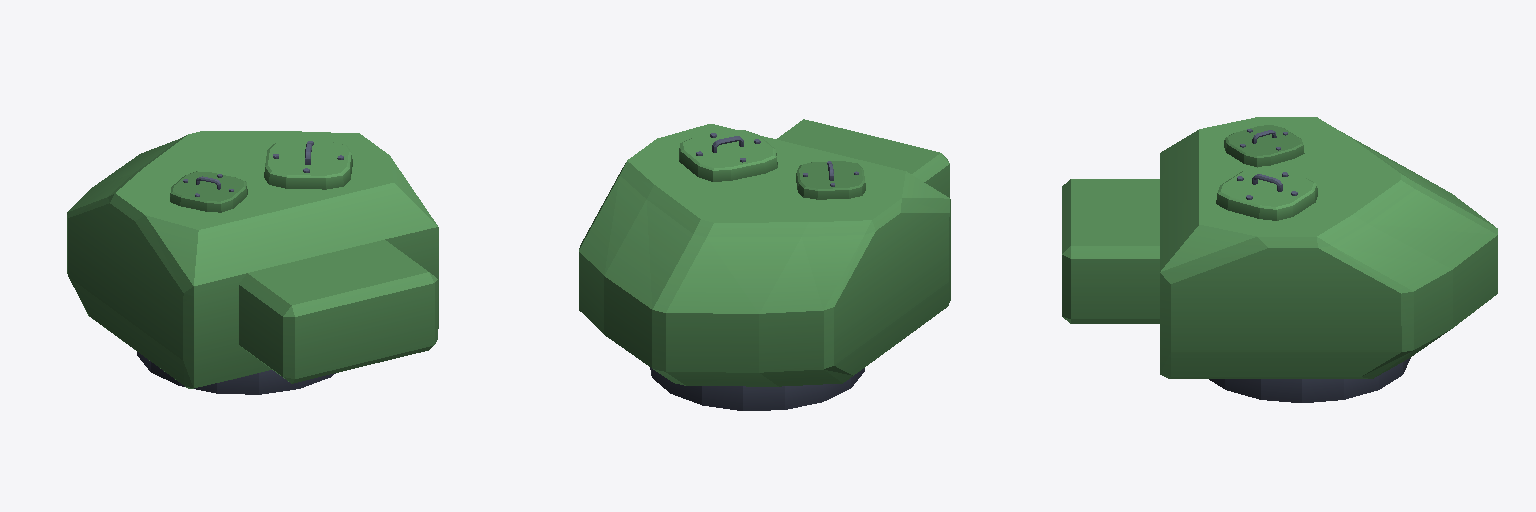
3 views of the same model, side by side, from view 1: azimuth 30°, elevation 25°; view 2: azimuth 150°, elevation 25°; view 3: azimuth 270°, elevation 25° (orthographic).
Visible parts, largest first — view 1: Tank_Tower_Cube.017; view 2: Tank_Tower_Cube.017; view 3: Tank_Tower_Cube.017.
Boxes of the visible parts, <box> form: Tank_Tower_Cube.017: <box>67,131,438,394</box>; Tank_Tower_Cube.017: <box>579,119,950,410</box>; Tank_Tower_Cube.017: <box>1062,117,1497,402</box>.
Size of the model in its own units: 1.77 by 1.35 by 2.63.
Materials: 1 (1 with a texture image).